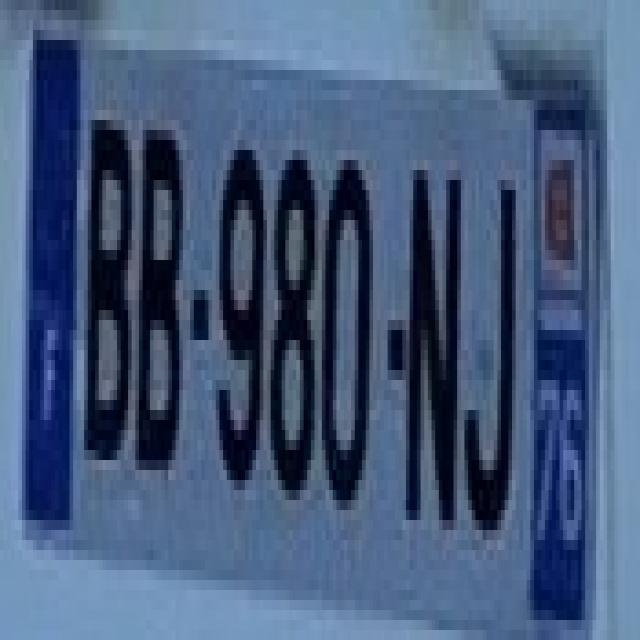EU: (20, 33, 600, 628)
France: (24, 27, 82, 530)
